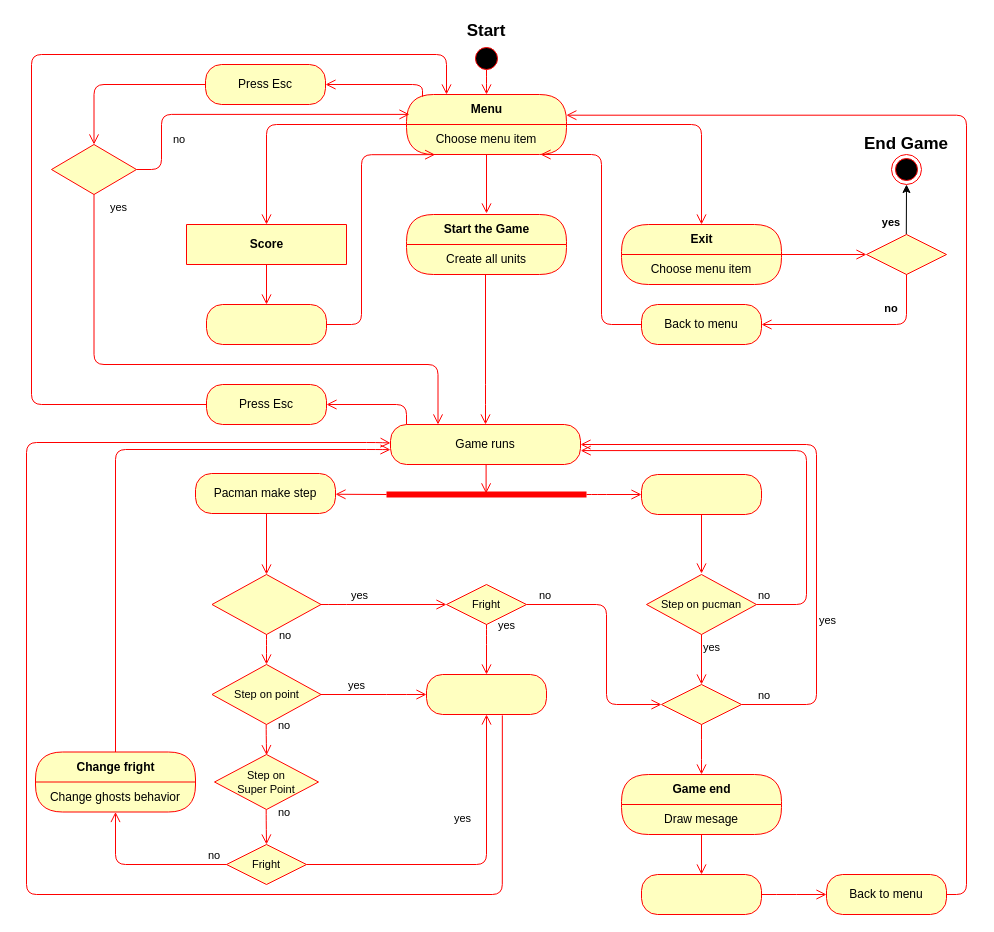
Some shapes in this 994 by 932 pixel diagram are drawn without their labels. Here are the shapes that lost their labels. From the top down, the centre of each, then its label:
At pixel 93 169: "Game is running".
At pixel 906 254: "Yes / No".
At pixel 266 324: "Wait for press any key".
At pixel 701 494: "Ghosts make steps".
At pixel 266 604: "Step on shost".
At pixel 486 694: "Add points".
At pixel 701 704: "Lives < 1".
At pixel 701 894: "Add scores".
